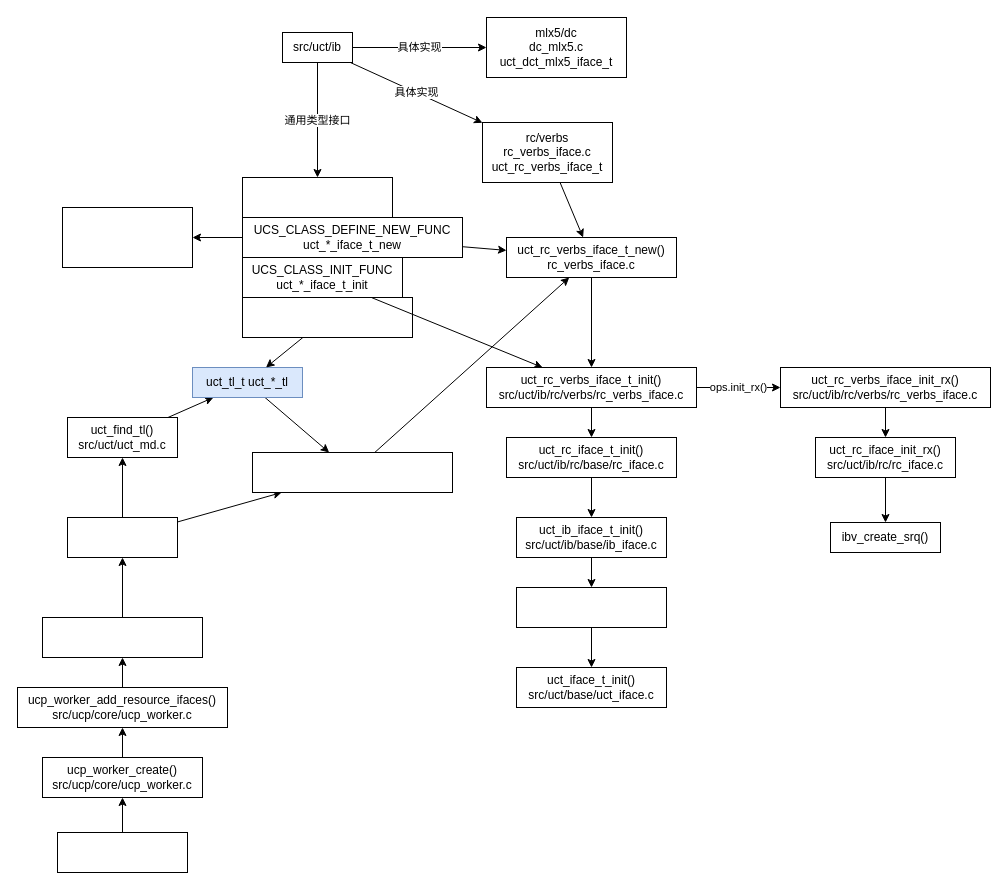
Some shapes in this 1008 by 890 pixel diagram are drawn without their labels. The shapes that lost their labels are listed below. From the top down, each one's centre as x and y in pixels, then its label:
(317,197): UCS_CLASS_DEFINE uct_*_iface_t
(127,237): ucs_class_malloc() UCS_CLASS_INIT() ...
(327,317): UCT_TL_DEFINE_ENTRY uct_iface.h
(352,472): .iface_open =(_iface_class)_new src/uct/base/uct_iface.h
(122,537): uct_iface_open() src/uct/uct_md.c
(591,607): uct_base_iface_t_init() src/uct/base/uct_iface.c
(122,637): ucp_worker_iface_open() src/ucp/core/ucp_worker.c
(122,852): mca_pml_ucx_init() OpenMPI
